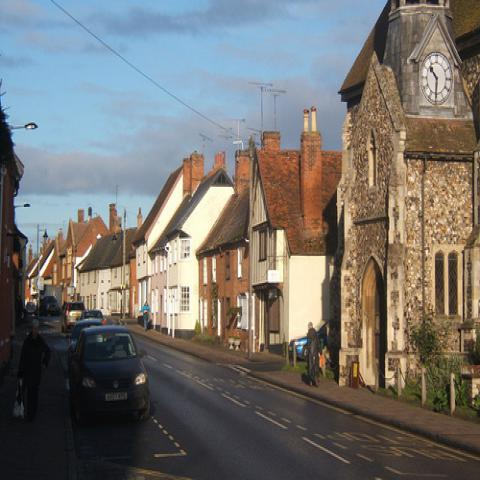car: (66, 321, 152, 413), (288, 331, 320, 362), (74, 310, 105, 330), (62, 300, 83, 328), (39, 295, 61, 318), (25, 302, 36, 315)
